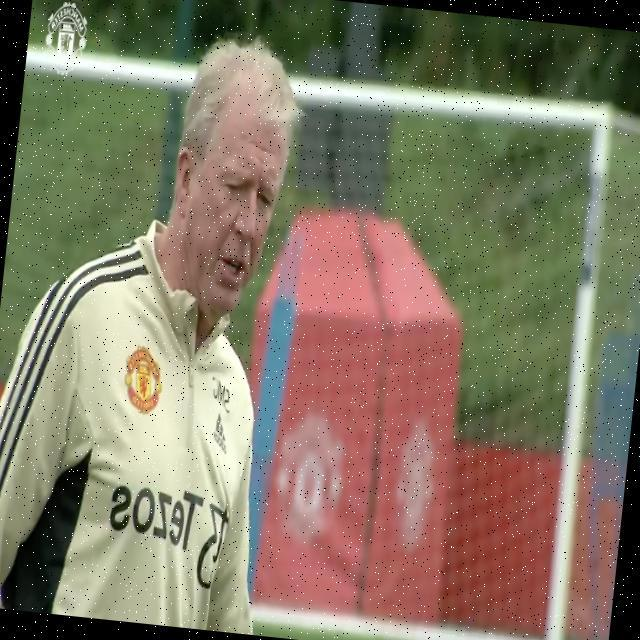Adidas: (210, 407, 232, 453)
